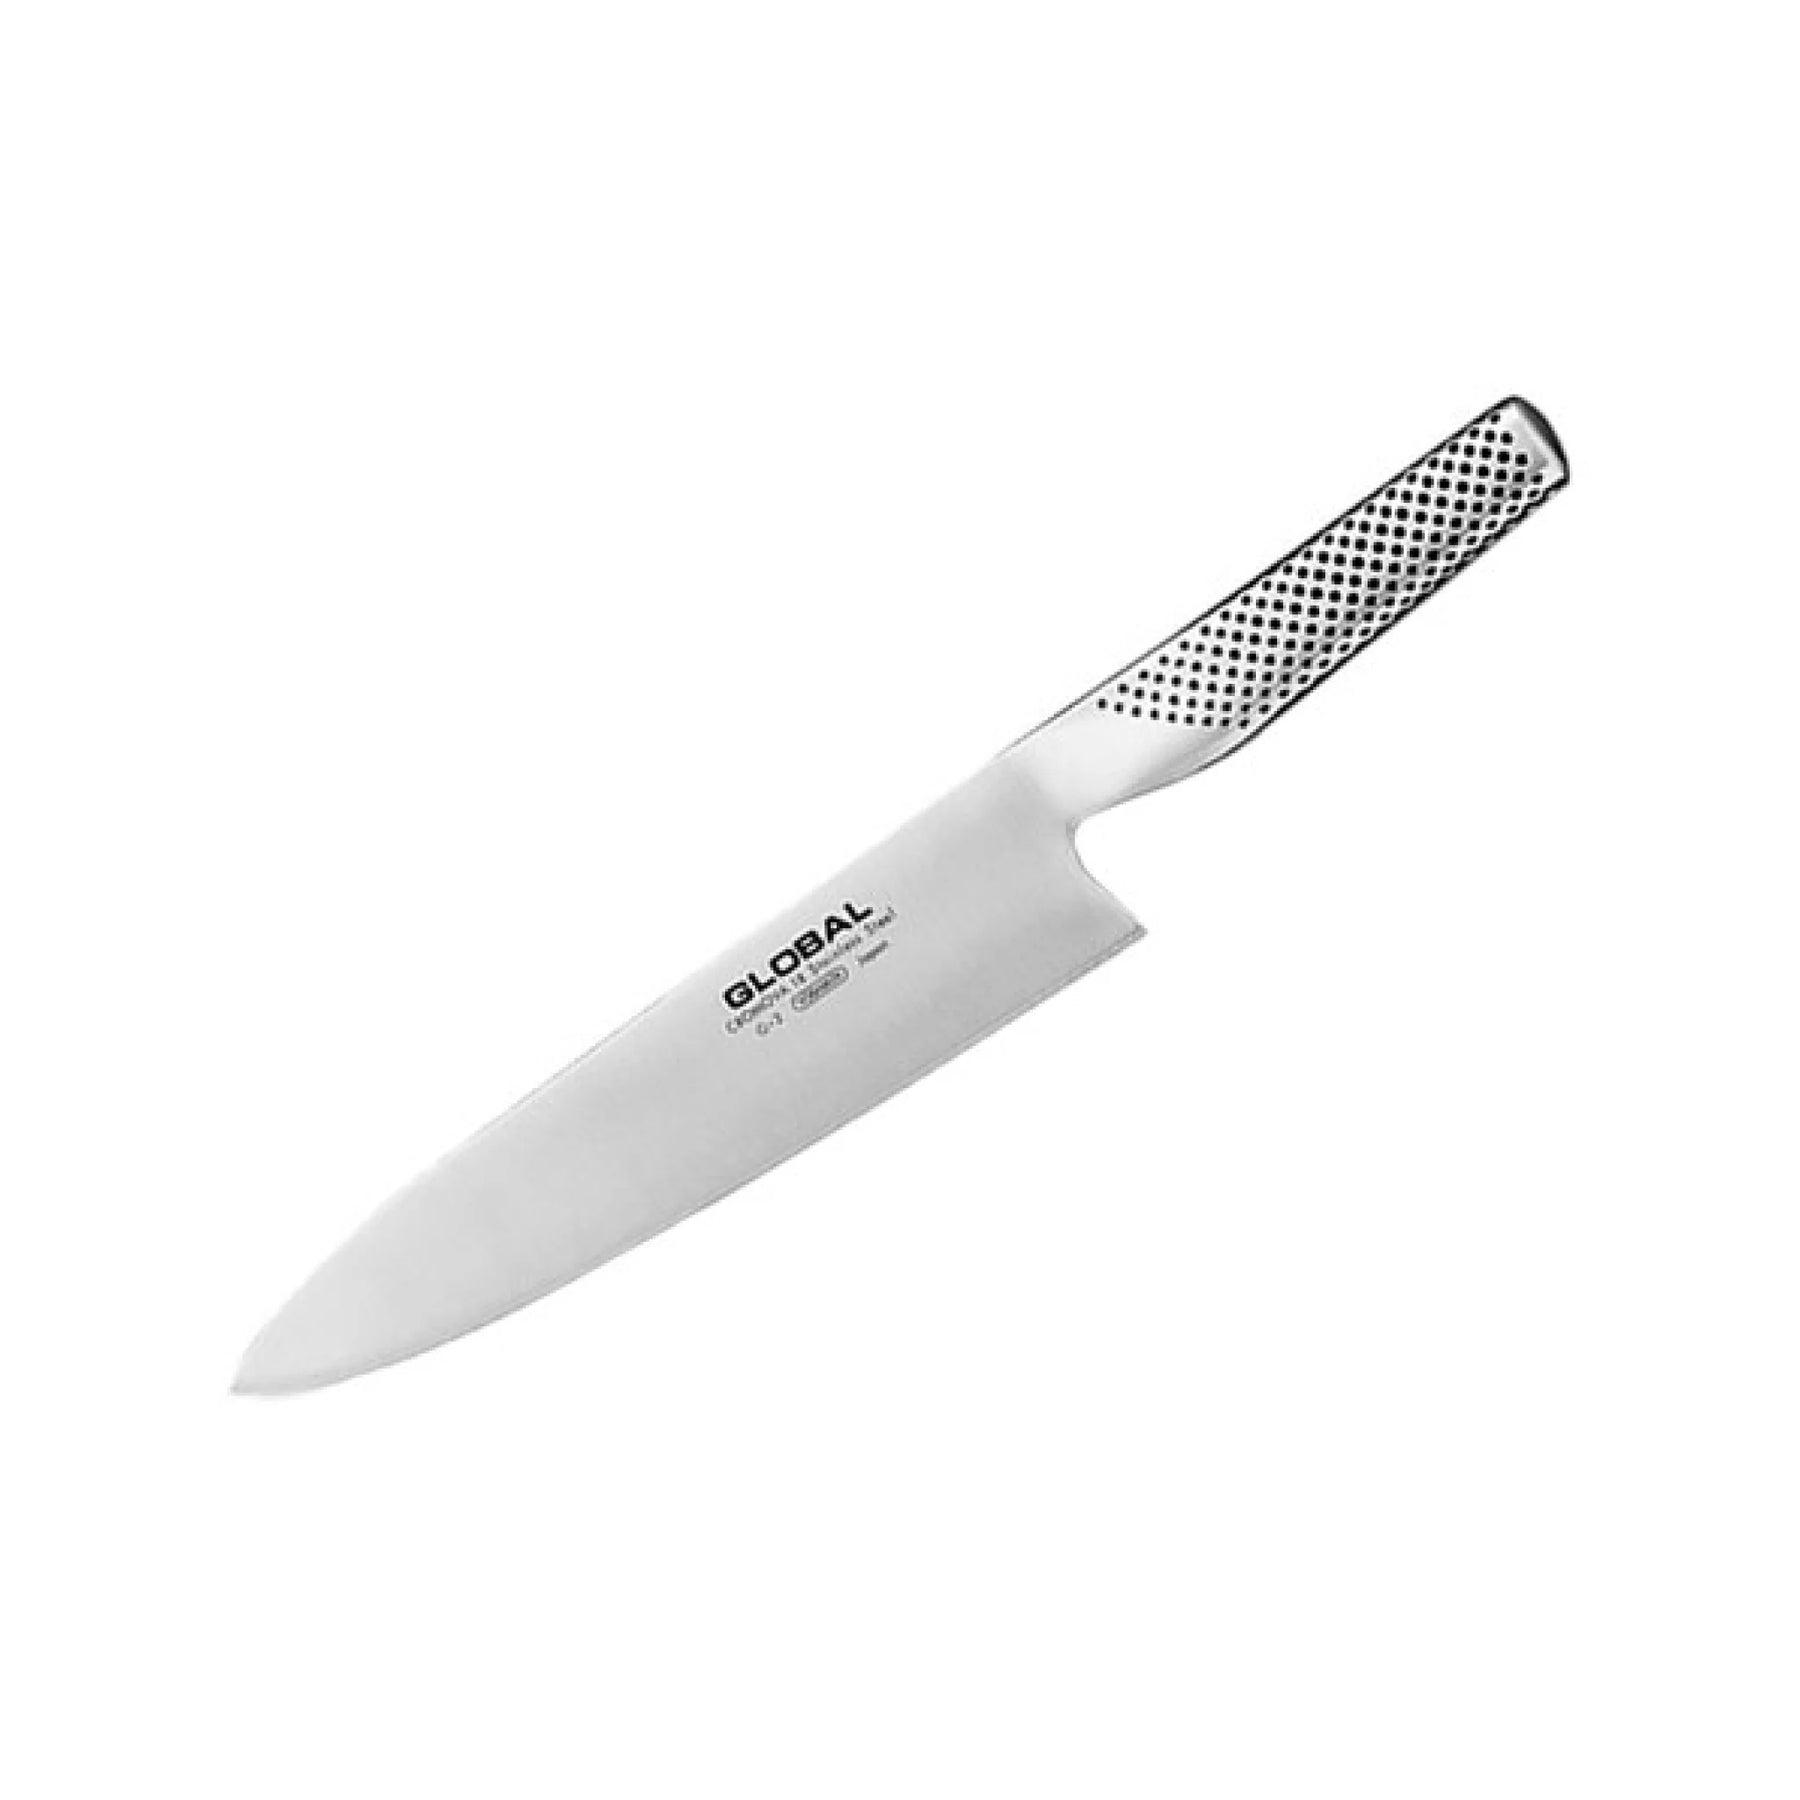Knife: (227, 391, 1571, 1399)
